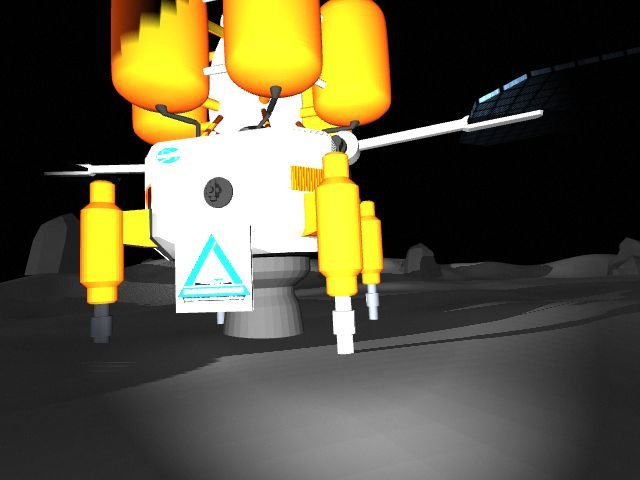basemarker: (177, 233, 251, 303)
